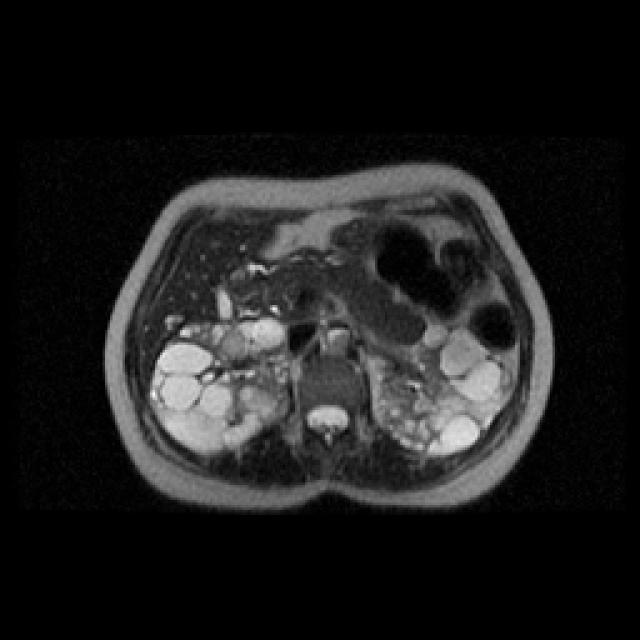sag: (152, 316, 294, 454)
sol: (379, 325, 507, 451)
